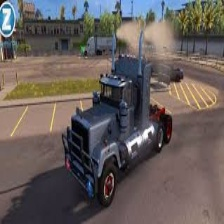smoke: (114, 16, 177, 44)
